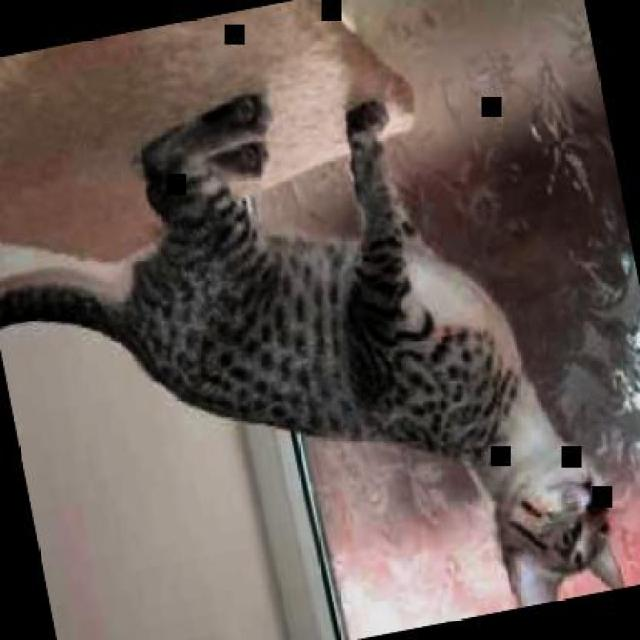cat: (0, 37, 628, 638)
